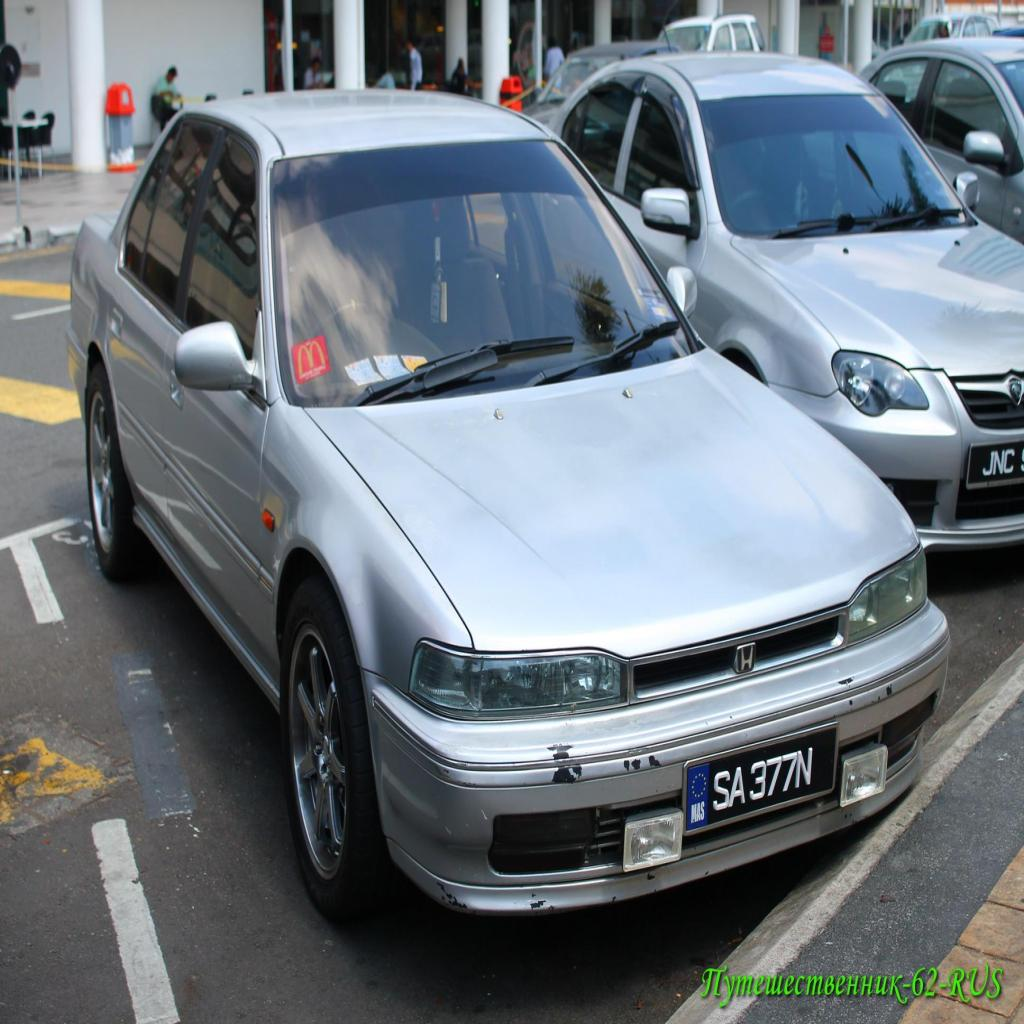car: (68, 90, 948, 915)
car plate: (683, 725, 837, 832)
